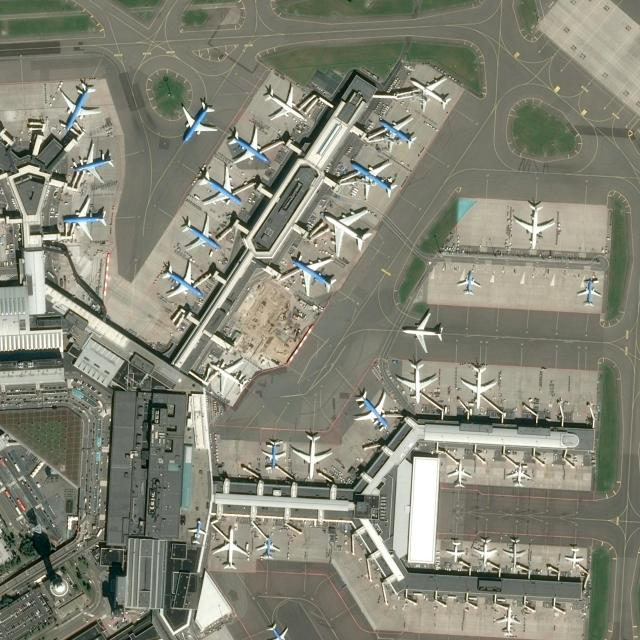1: (263, 620, 292, 640)
aircraft: (320, 205, 374, 256), (57, 78, 101, 130), (58, 197, 110, 241), (346, 158, 398, 200), (68, 139, 118, 182), (288, 253, 336, 297), (399, 308, 446, 352), (156, 257, 205, 299), (514, 200, 554, 249), (292, 430, 331, 480), (176, 98, 218, 144), (396, 358, 438, 404), (195, 166, 242, 207), (260, 81, 308, 121), (225, 123, 271, 164), (403, 73, 451, 111), (459, 360, 496, 408), (178, 213, 220, 252), (353, 386, 390, 428), (212, 527, 248, 570), (376, 116, 418, 152), (260, 438, 288, 470), (493, 605, 521, 636), (576, 276, 602, 308), (505, 459, 532, 488), (471, 535, 497, 565), (446, 459, 472, 488), (503, 535, 526, 567), (456, 270, 482, 296), (254, 535, 277, 561), (445, 539, 467, 563), (186, 518, 206, 544), (566, 546, 586, 570)
